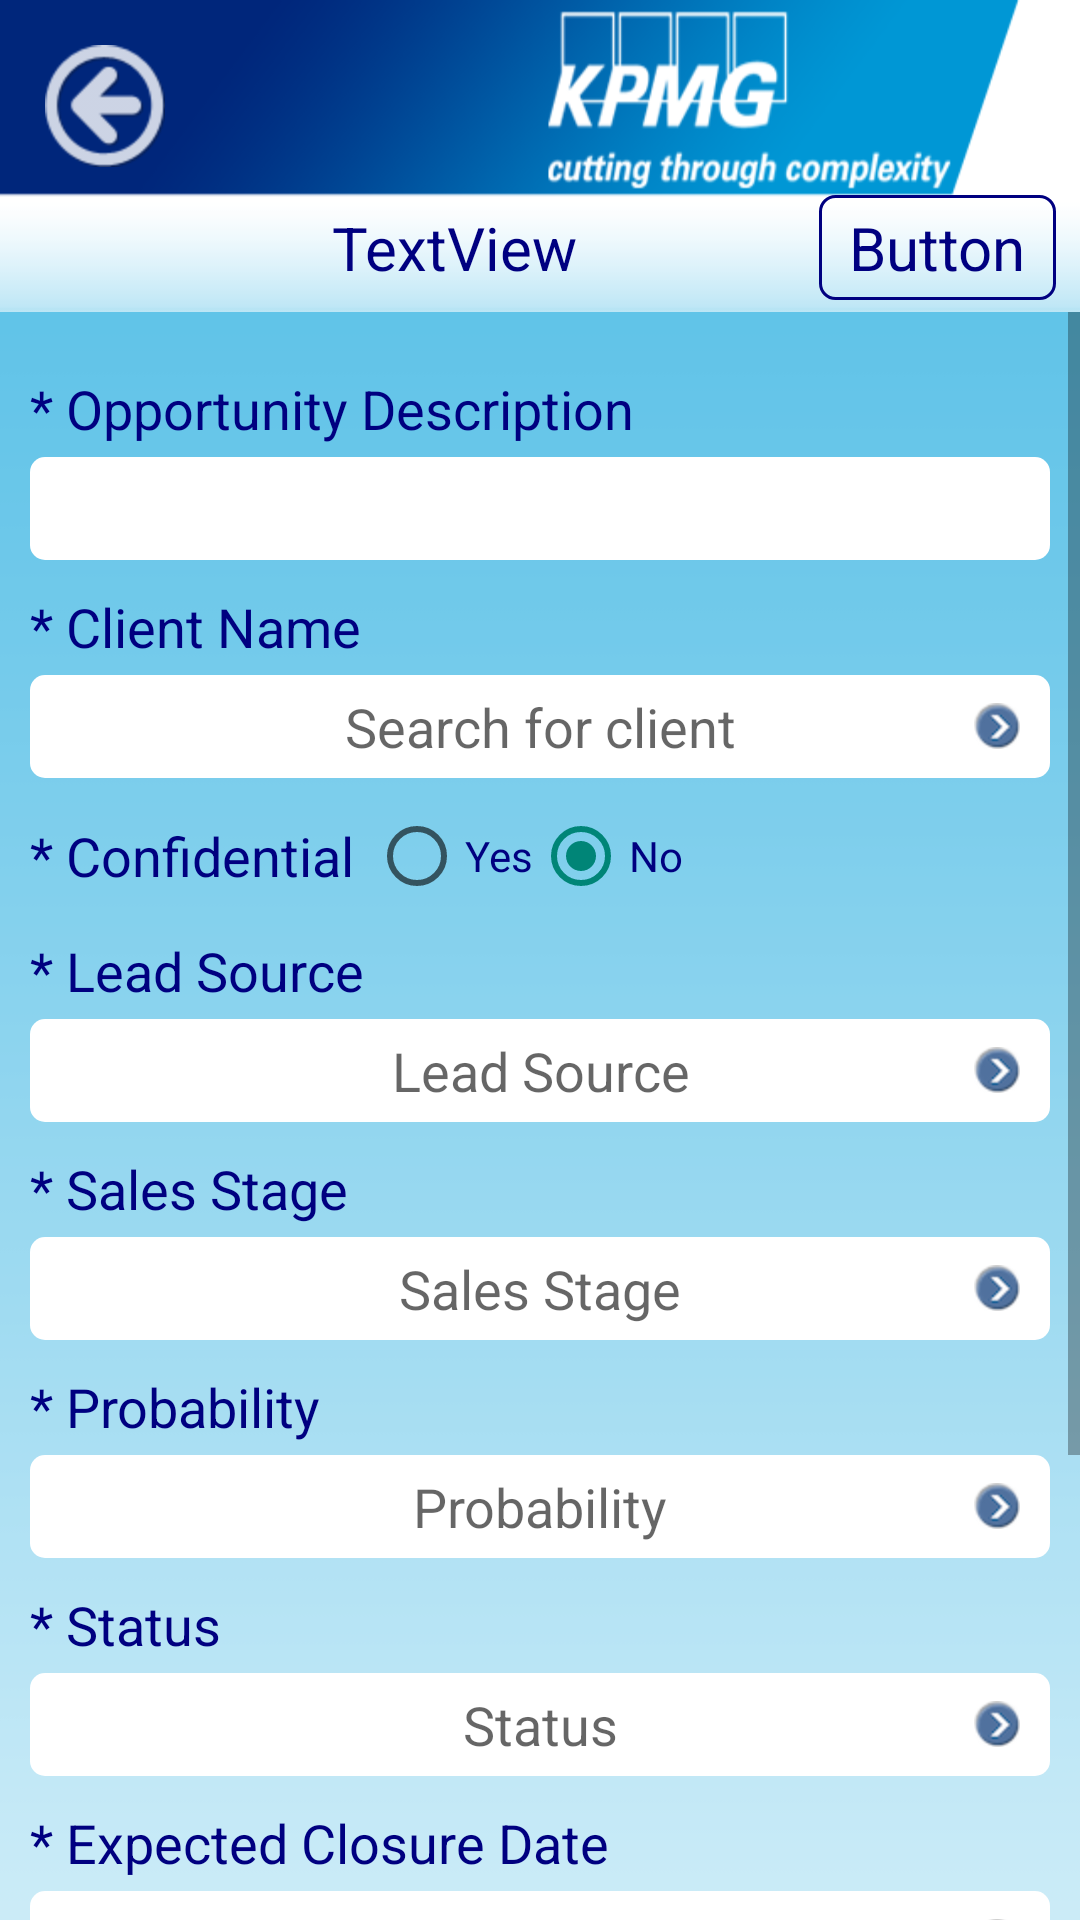

Icon click points for this 1080px×1920px phone screenshot, format (x=x, y=y):
back: (x=105, y=106)
